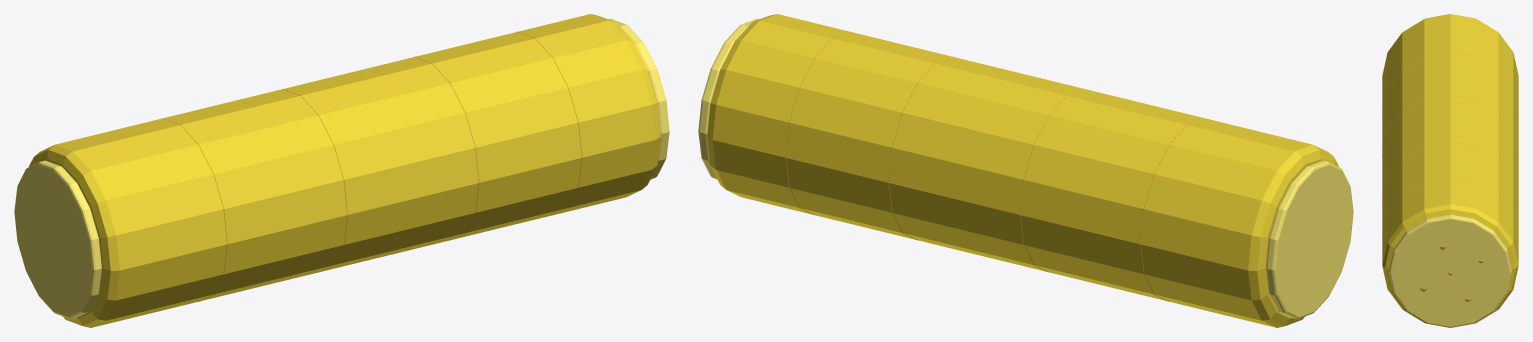
File: danmuji.glb
3 renders of one model, left to right at view 1: azimuth 30°, elevation 25°; view 2: azimuth 150°, elevation 25°; view 3: azimuth 270°, elevation 25°, orthographic. The views are drawn at different scales.
Parts seen in each view (by area): view 1: danmuji_body, far_cut, near_cut; view 2: danmuji_body, far_cut, near_cut; view 3: danmuji_body, near_cut, pickle_ring_3, pickle_ring_0, pickle_ring_2, pickle_ring_1.
Part boxes in pixels (x1,y1,x2,y2): danmuji_body: (29, 14, 660, 327); far_cut: (14, 160, 101, 319); near_cut: (608, 18, 669, 179); danmuji_body: (707, 14, 1338, 327); far_cut: (1266, 160, 1353, 319); near_cut: (698, 18, 759, 179); danmuji_body: (1382, 14, 1518, 323); near_cut: (1389, 214, 1511, 327); pickle_ring_3: (1382, 178, 1518, 239); pickle_ring_0: (1382, 52, 1518, 112); pickle_ring_2: (1382, 141, 1518, 202); pickle_ring_1: (1382, 95, 1518, 155).
Size of the model in its own units: 0.5053 by 0.1424 by 0.1424.
